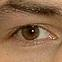eye: (22, 27, 40, 40)
